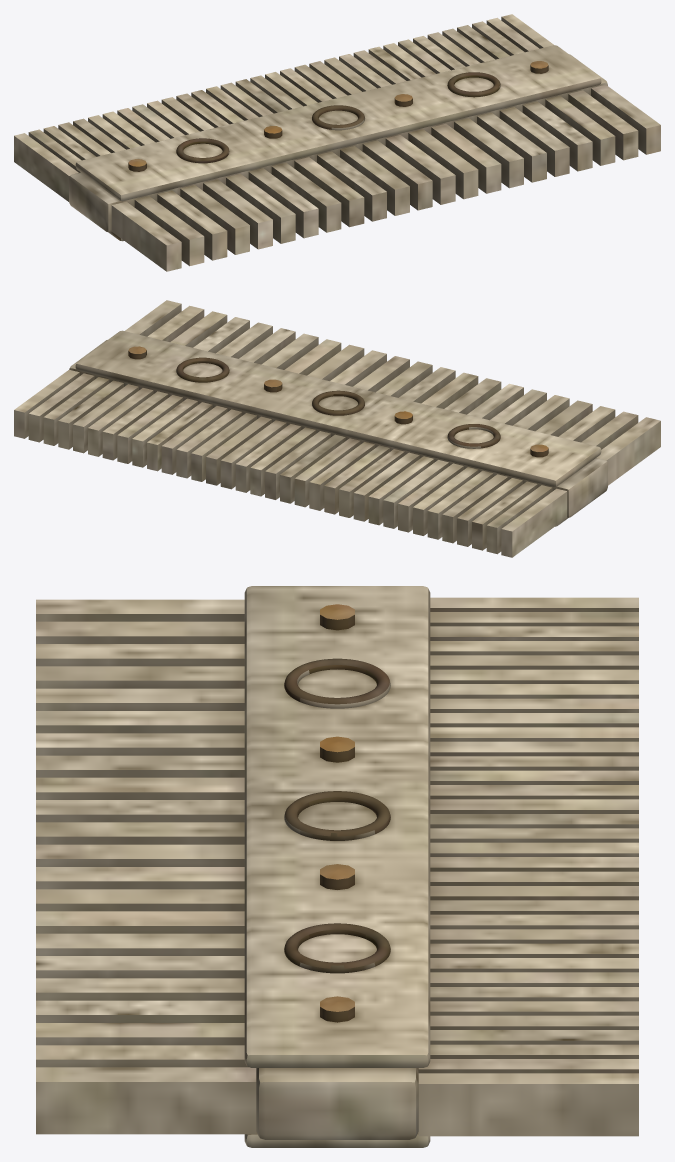
File: bone_comb.glb
3 views of the same model, one above another, from view 1: azimuth 30°, elevation 25°; view 2: azimuth 150°, elevation 25°; view 3: azimuth 270°, elevation 25° (orthographic). The views are drawn at different scales.
Parts seen in each view (by area): view 1: bone_comb; view 2: bone_comb; view 3: bone_comb.
Part boxes in pixels (<box>): bone_comb: <box>14,14,660,271</box>; bone_comb: <box>14,300,660,557</box>; bone_comb: <box>36,586,638,1147</box>.
Bounding box in the file's own units: 0.1 × 0.0104 × 0.052.
1 material, 1 textured.
